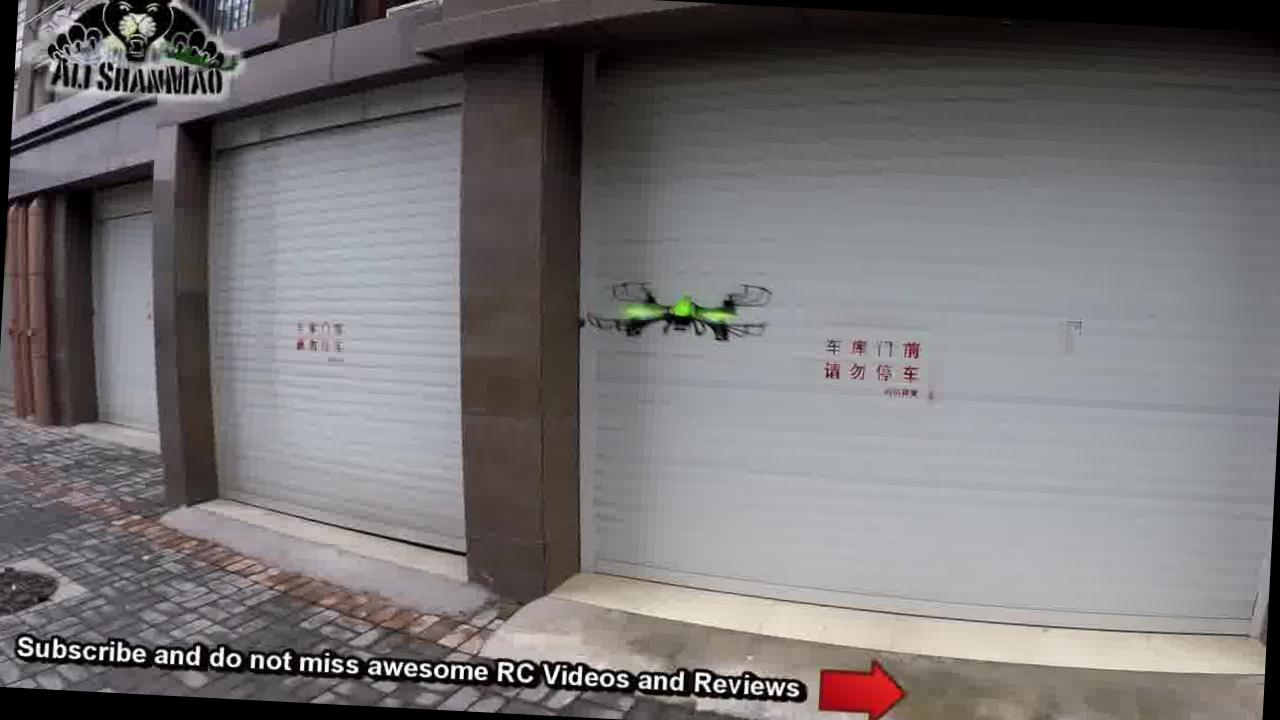drone: (570, 262, 780, 358)
